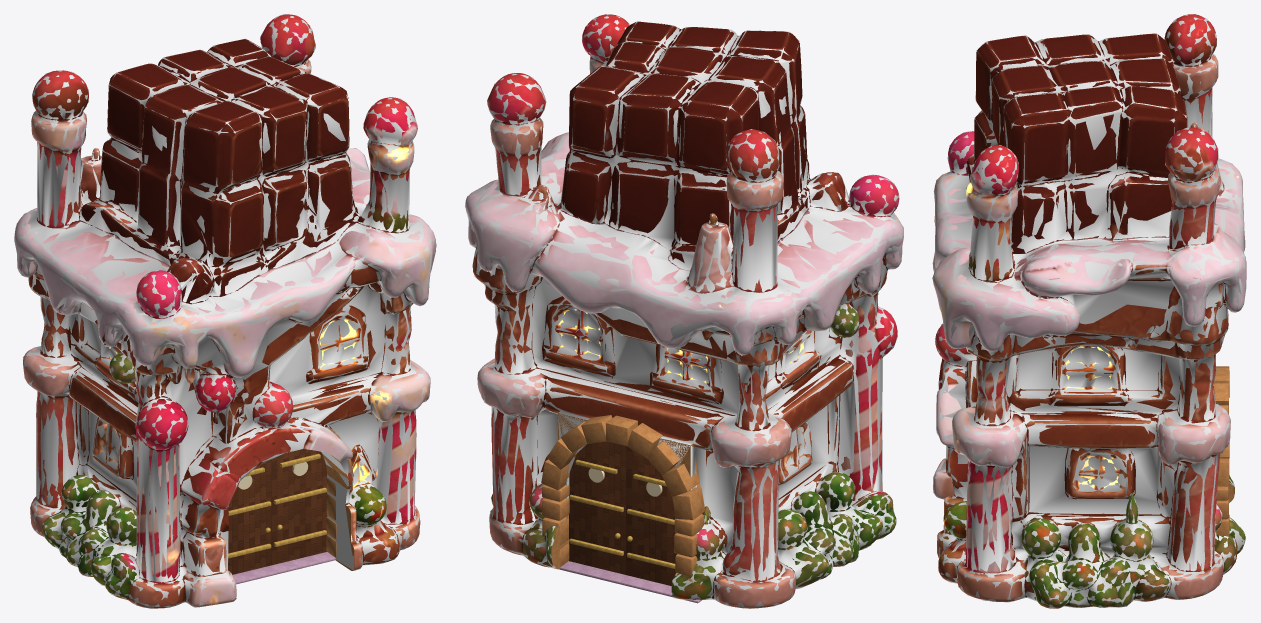
Rendered from GIN_BLD_ChocoCottage.fbx.
3 views of the same model, side by side, from view 1: azimuth 30°, elevation 25°; view 2: azimuth 150°, elevation 25°; view 3: azimuth 270°, elevation 25° (orthographic). The views are drawn at different scales.
Visible parts, largest first — view 1: GIN_BLD_ChocoCottage, COL_GIN_BLD_ChocoCottage_Shell, GIN_BLD_ChocoCottage_Door_FR, GIN_BLD_ChocoCottage_Door_FL, GIN_BLD_ChocoCottage_Frame; view 2: GIN_BLD_ChocoCottage, COL_GIN_BLD_ChocoCottage_Shell, GIN_BLD_ChocoCottage_Frame, GIN_BLD_ChocoCottage_Door_BL, GIN_BLD_ChocoCottage_Door_BR; view 3: GIN_BLD_ChocoCottage, COL_GIN_BLD_ChocoCottage_Shell, GIN_BLD_ChocoCottage_Frame.
Boxes of the visible parts, x1,y1,x2,y2 form: GIN_BLD_ChocoCottage: (14, 14, 436, 608); COL_GIN_BLD_ChocoCottage_Shell: (14, 14, 436, 608); GIN_BLD_ChocoCottage_Door_FR: (265, 449, 327, 565); GIN_BLD_ChocoCottage_Door_FL: (228, 459, 282, 574); GIN_BLD_ChocoCottage_Frame: (232, 426, 353, 584); GIN_BLD_ChocoCottage: (465, 14, 903, 608); COL_GIN_BLD_ChocoCottage_Shell: (465, 14, 903, 608); GIN_BLD_ChocoCottage_Frame: (541, 415, 705, 603); GIN_BLD_ChocoCottage_Door_BL: (569, 441, 632, 574); GIN_BLD_ChocoCottage_Door_BR: (615, 446, 676, 585); GIN_BLD_ChocoCottage: (933, 14, 1246, 608); COL_GIN_BLD_ChocoCottage_Shell: (932, 14, 1246, 608); GIN_BLD_ChocoCottage_Frame: (1213, 366, 1229, 536).
Bounding box in the file's own units: 19.32 × 26.02 × 15.87.
